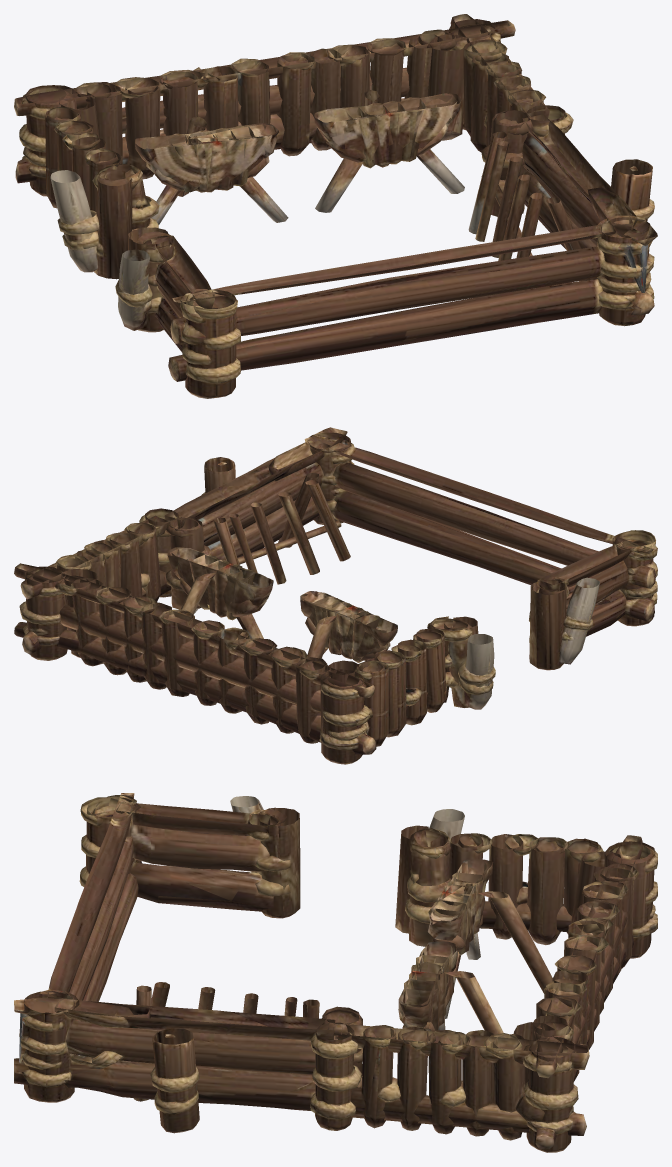
The model's file is campo-de-jabalinas_e1.glb.
The picture shows the model from 3 angles, top to bottom: view 1: azimuth 30°, elevation 25°; view 2: azimuth 150°, elevation 25°; view 3: azimuth 270°, elevation 25°; orthographic projection. The views are drawn at different scales.
Bounding box in the file's own units: 8 × 1.36 × 8.
1 material, 1 textured.
